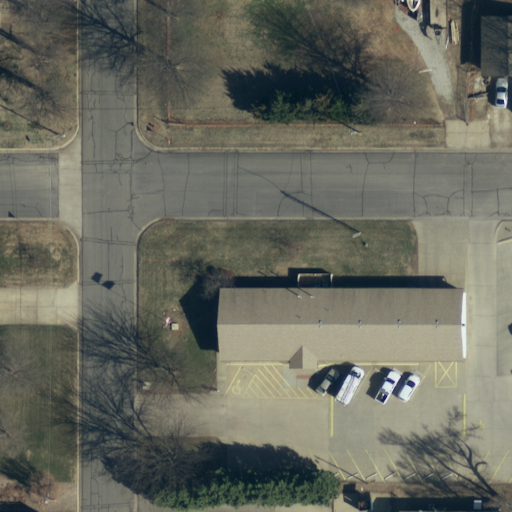DT: (35, 118, 68, 145), (343, 122, 366, 142), (345, 226, 368, 245)
